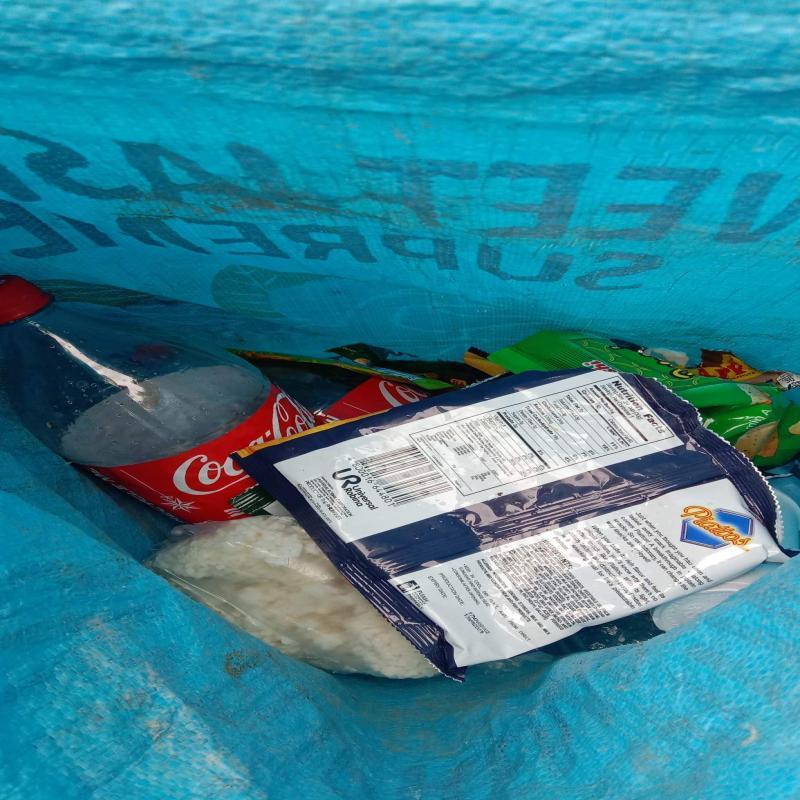food wrapper: (236, 362, 800, 682), (485, 330, 800, 467)
left-over food: (144, 516, 440, 679)
plastic bottle: (0, 275, 317, 524)
